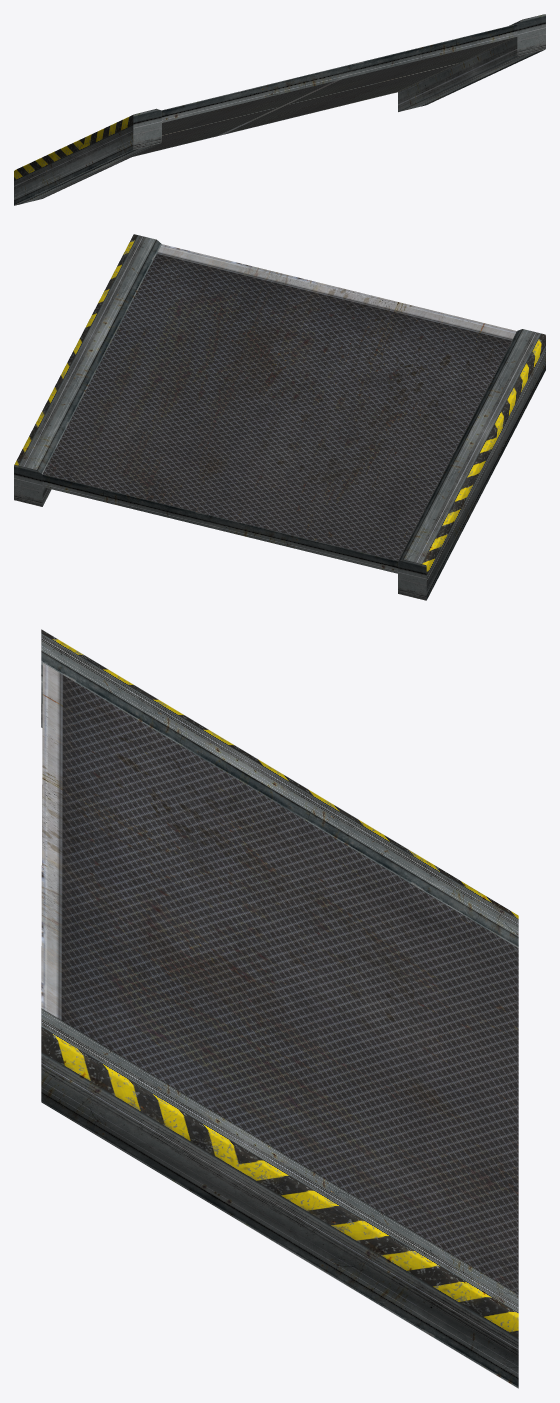
File: Floor_A_3'5qmts_2.fbx
3 views of the same model, one above another, from view 1: azimuth 30°, elevation 25°; view 2: azimuth 150°, elevation 25°; view 3: azimuth 270°, elevation 25° (orthographic). The views are drawn at different scales.
Visible parts, largest first — view 1: Floor_A_3'5qmts_2; view 2: Floor_A_3'5qmts_2; view 3: Floor_A_3'5qmts_2.
Part boxes in pixels (bbox=[...]): Floor_A_3'5qmts_2: bbox=[14, 14, 545, 205]; Floor_A_3'5qmts_2: bbox=[14, 234, 545, 600]; Floor_A_3'5qmts_2: bbox=[41, 629, 518, 1388].
Bounding box in the file's own units: 399 × 165 × 200.
